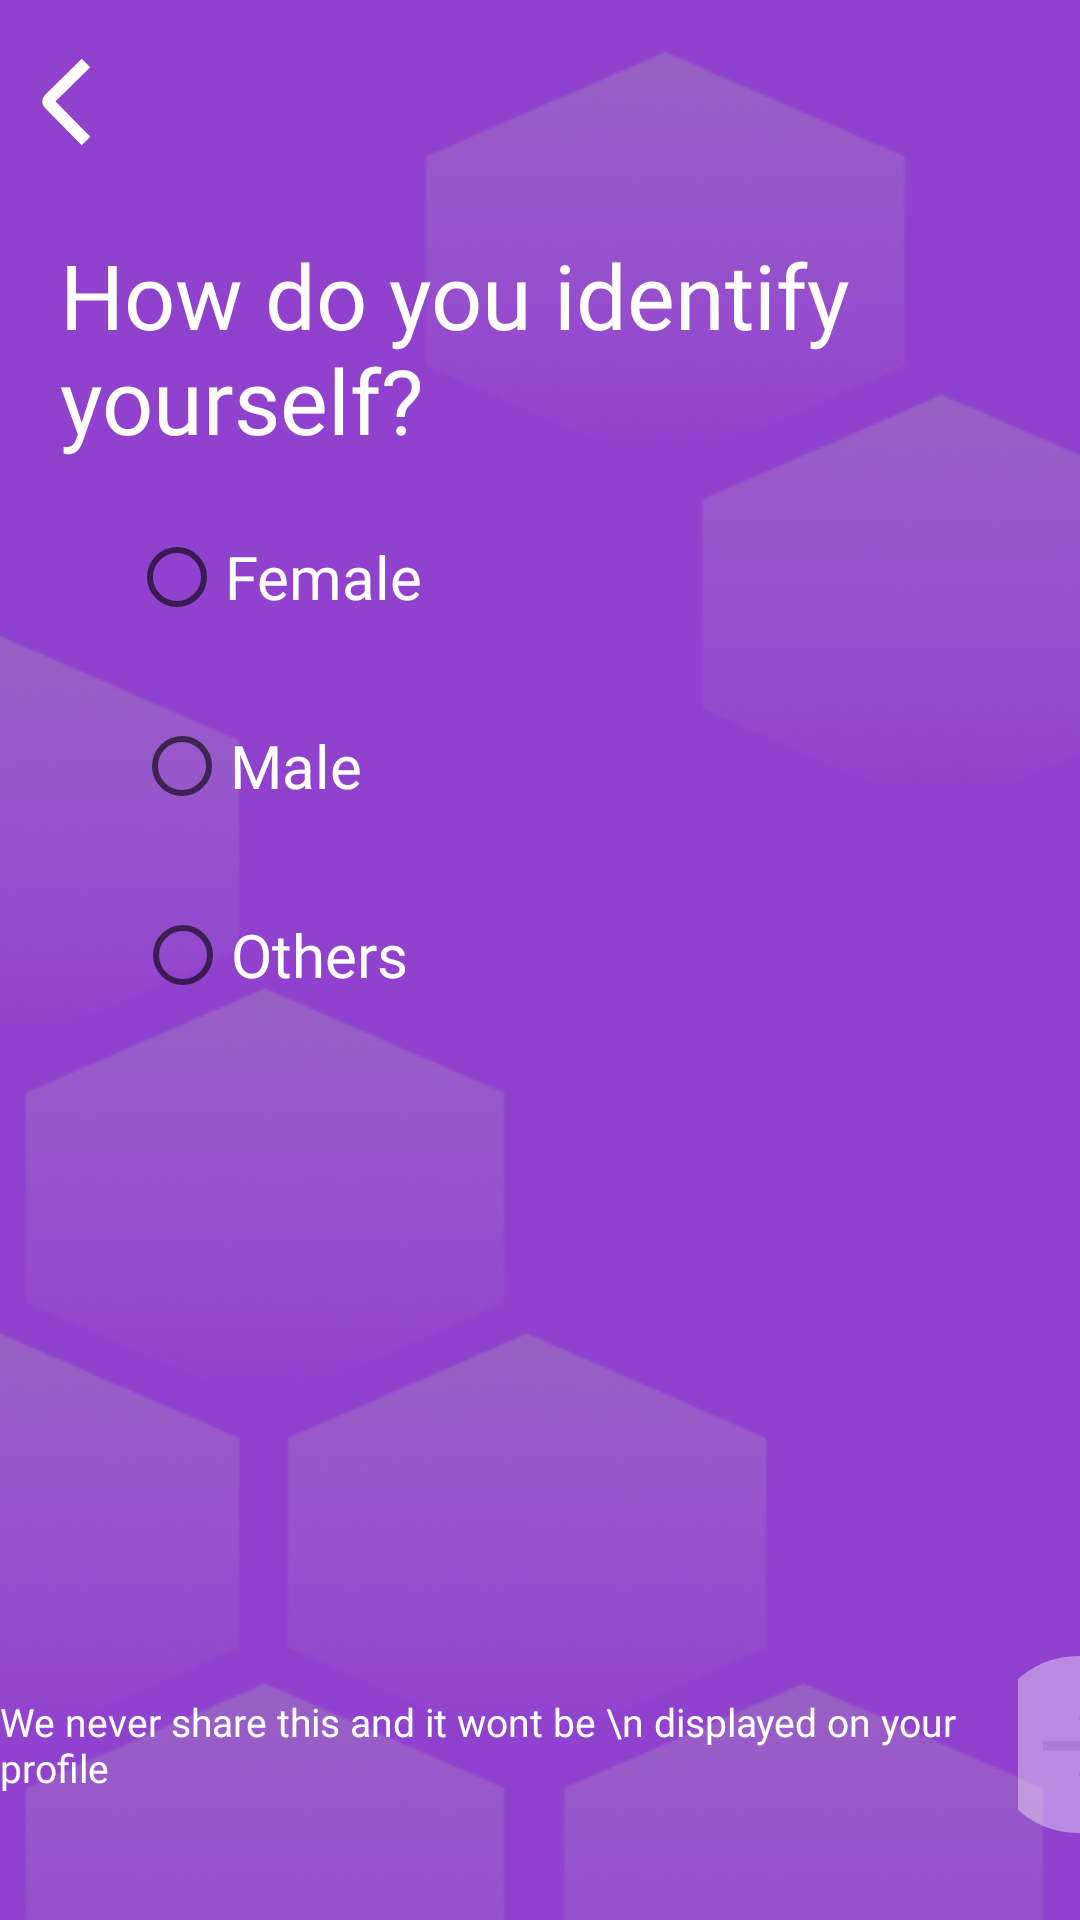

Icon click points for this 1080×1920 phone screenshot, format (x,y):
backbtn: (66,102)
